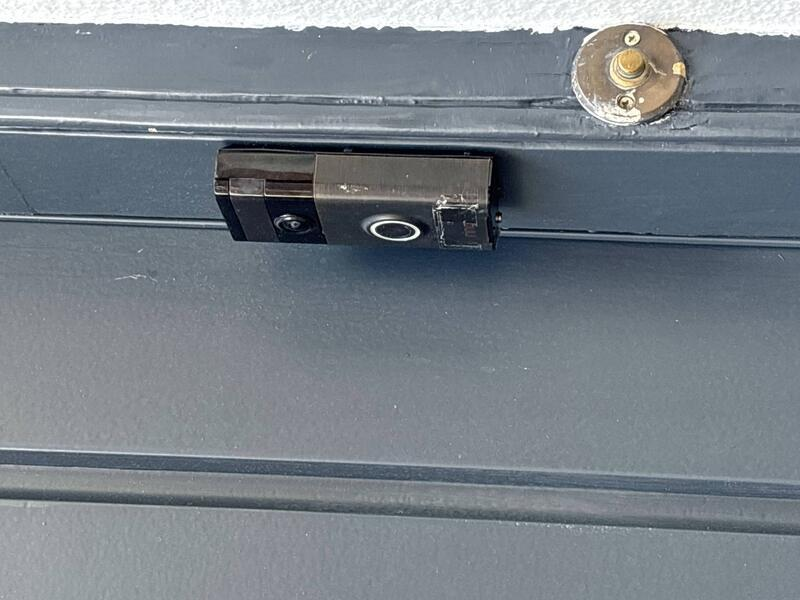doorbell: (348, 199, 453, 508)
